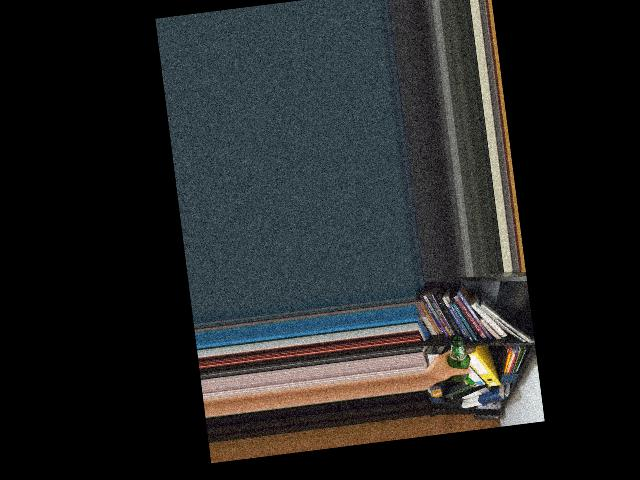beer: (444, 335, 472, 383)
